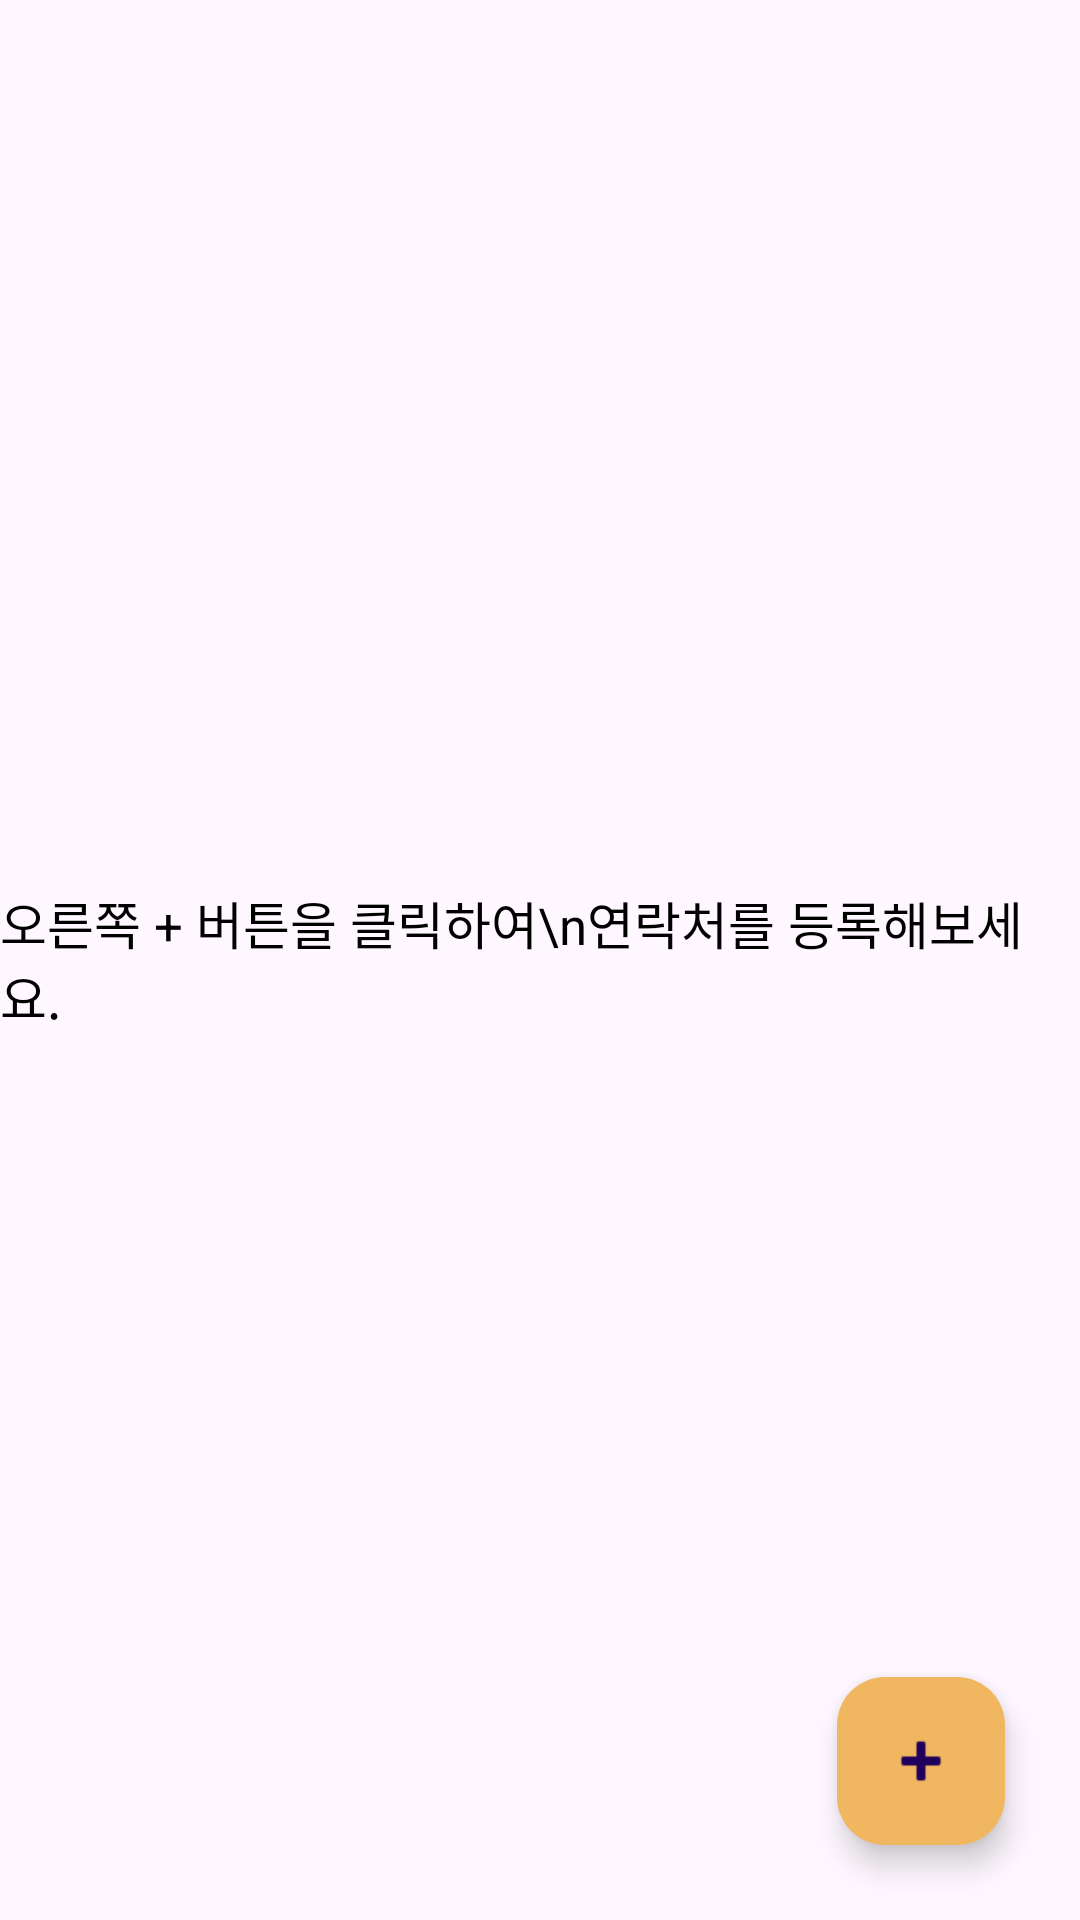

Named icons in this screenshot (1080px×1920px) and their centers, point (x, y):
add: point (921, 1761)
